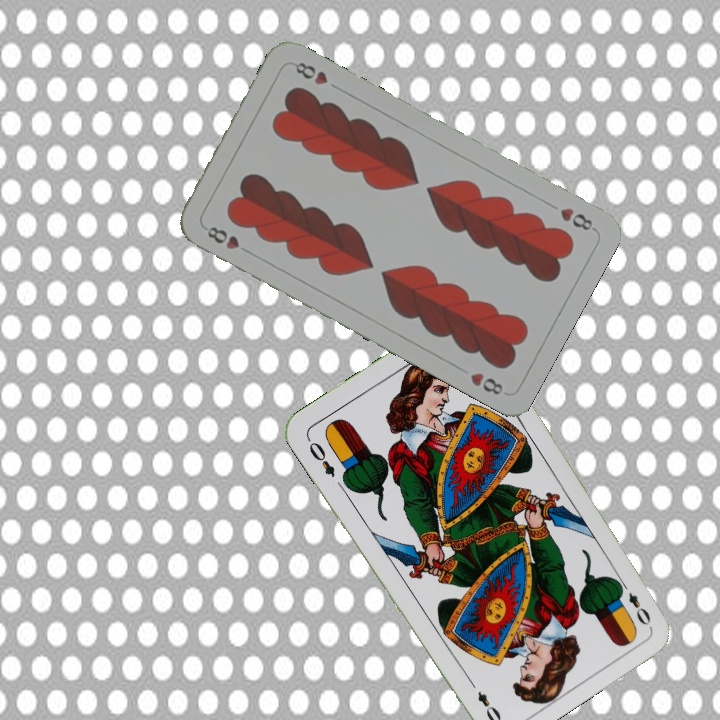EO: (614, 576, 654, 629), (302, 433, 338, 480)
H8: (556, 203, 598, 234), (203, 222, 243, 252)
